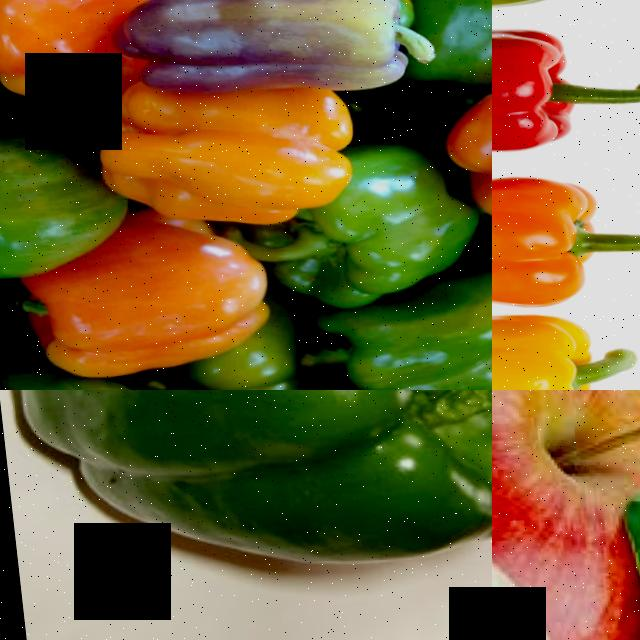apple: (519, 390, 640, 640), (492, 510, 570, 640)
bell pepper: (0, 390, 492, 602), (104, 105, 361, 225), (37, 247, 269, 371), (121, 0, 424, 93), (279, 169, 462, 300), (492, 17, 640, 176), (492, 165, 640, 317), (323, 286, 492, 390), (0, 0, 127, 111), (492, 309, 640, 390), (0, 145, 79, 270)
